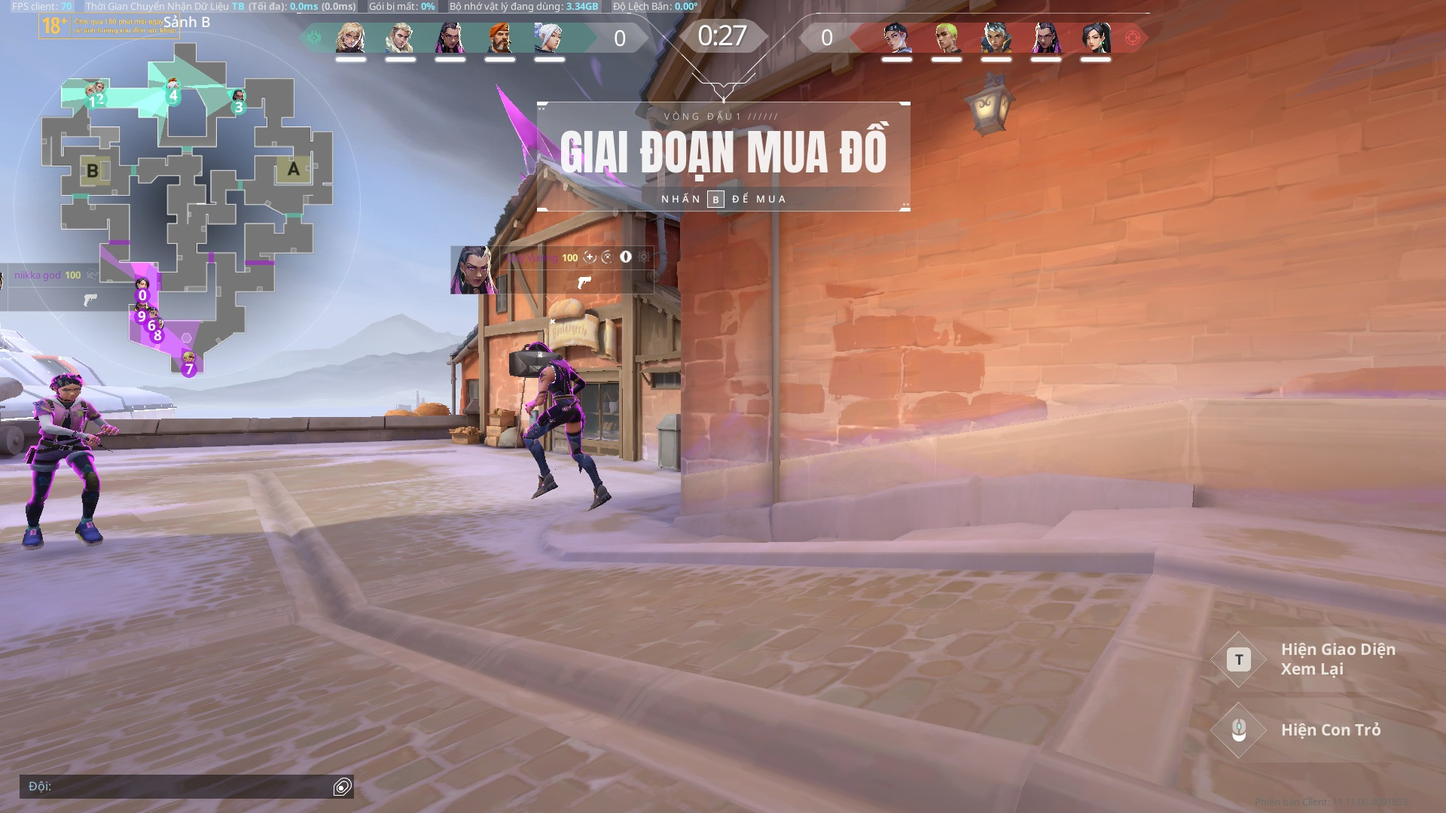body: (33, 392, 95, 446), (533, 363, 581, 400)
head: (53, 373, 83, 403), (526, 344, 555, 370)
